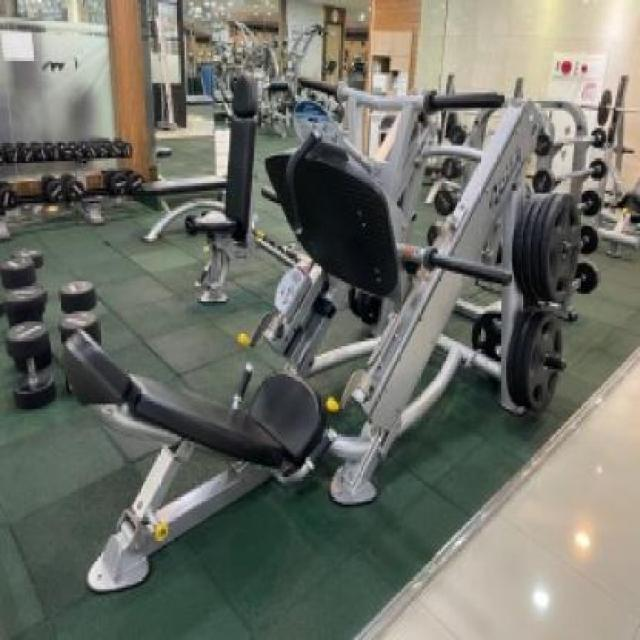leg press: (45, 37, 604, 605)
